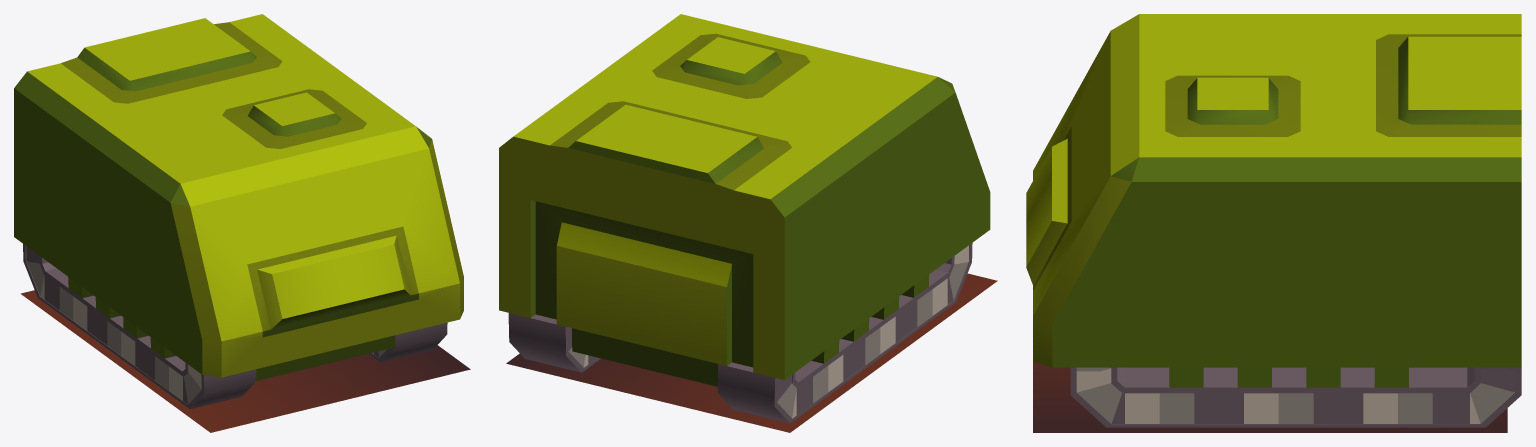
The model's file is APCMesh.AcidRain.glb.
3 views of the same model, side by side, from view 1: azimuth 30°, elevation 25°; view 2: azimuth 150°, elevation 25°; view 3: azimuth 270°, elevation 25° (orthographic). The views are drawn at different scales.
Parts seen in each view (by area): view 1: APCMesh.AcidRain; view 2: APCMesh.AcidRain; view 3: APCMesh.AcidRain.
Part boxes in pixels (bbox=[...]): APCMesh.AcidRain: bbox=[14, 14, 470, 432]; APCMesh.AcidRain: bbox=[499, 14, 997, 432]; APCMesh.AcidRain: bbox=[1026, 14, 1521, 432].
Size of the model in its own units: 1.51 by 1.25 by 1.98.
Materials: 1 (1 with a texture image).
